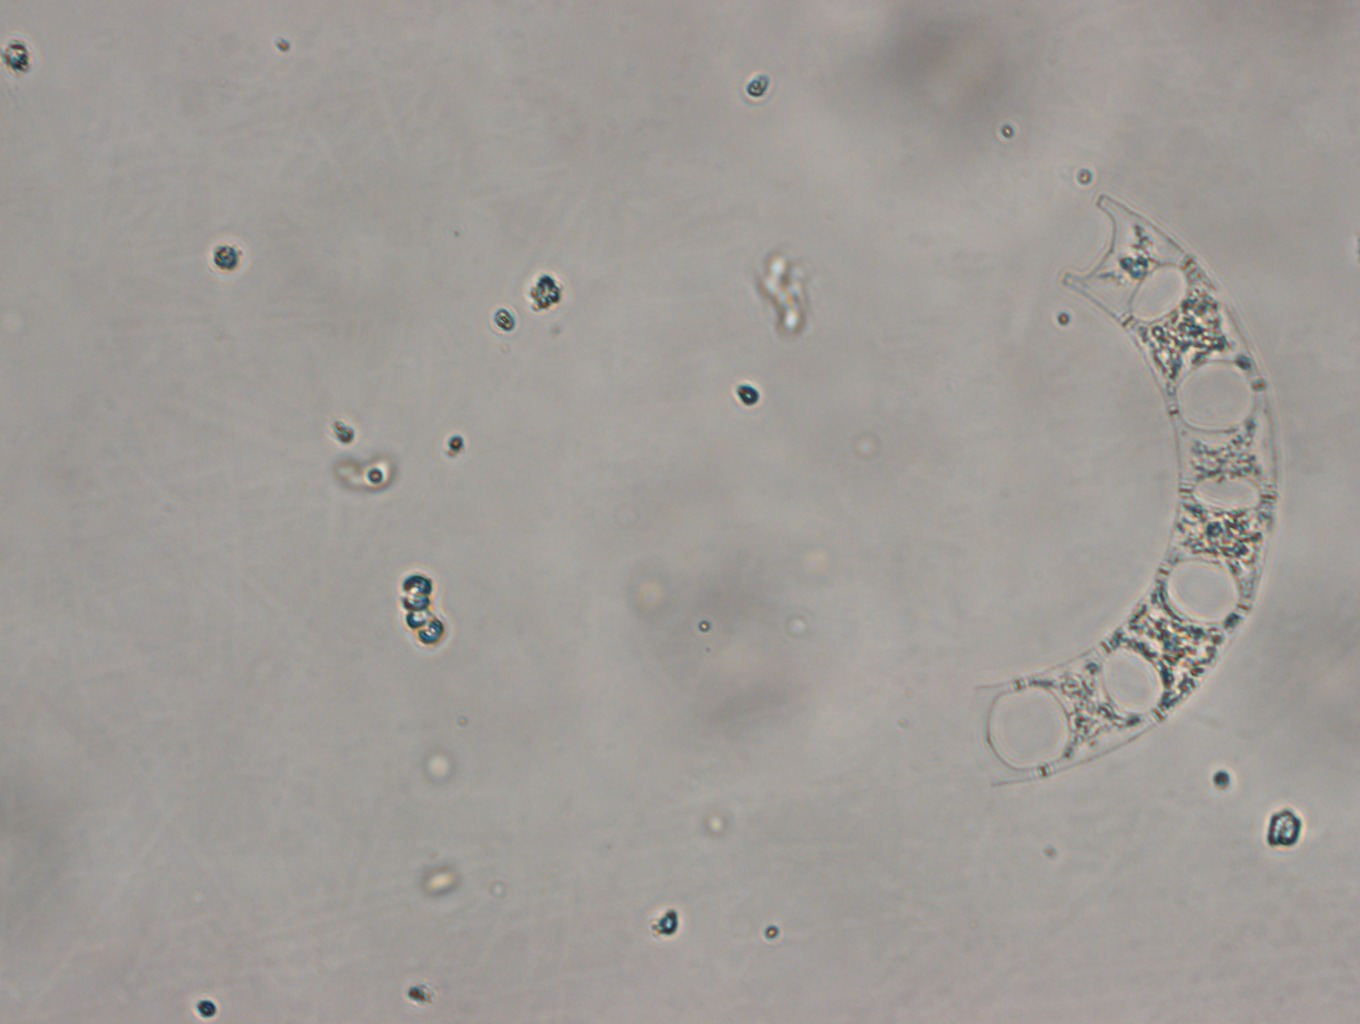eucampia: (944, 185, 1288, 790)
